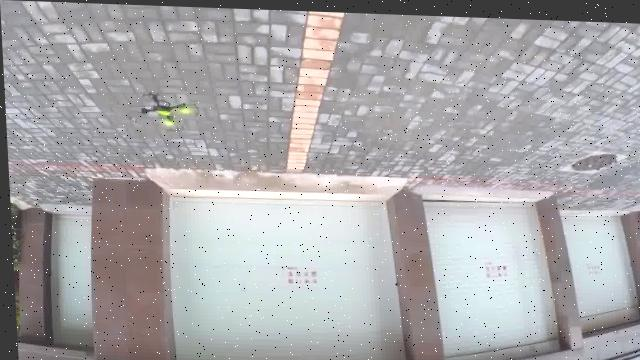drone: (119, 83, 202, 130)
